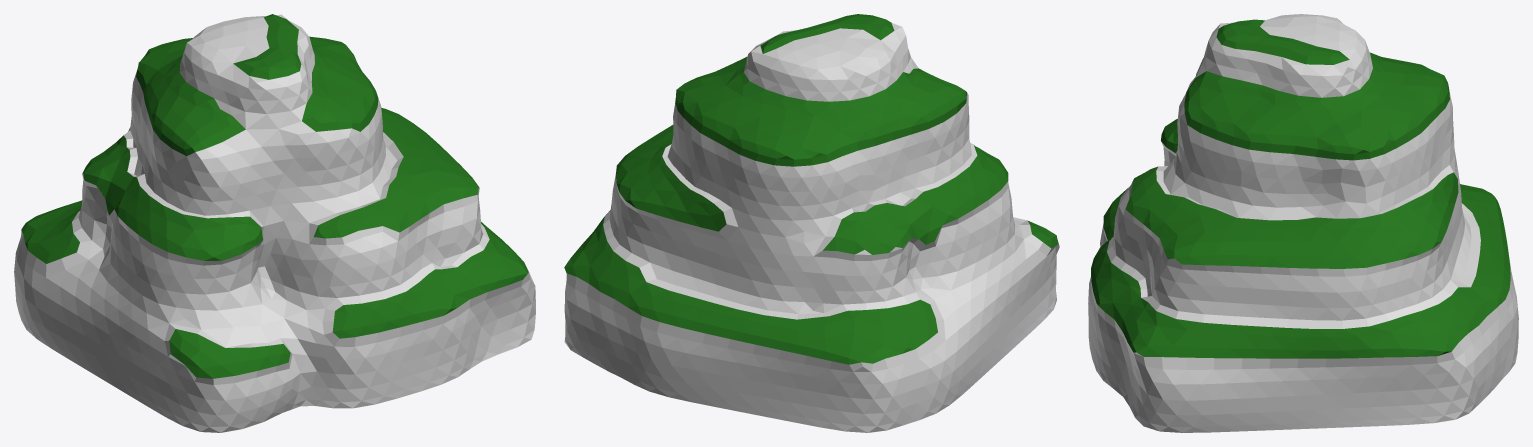
Rendered from RockWithGrass.fbx.
The picture shows the model from 3 angles, left to right: view 1: azimuth 30°, elevation 25°; view 2: azimuth 150°, elevation 25°; view 3: azimuth 270°, elevation 25°; orthographic projection.
Parts seen in each view (by area): view 1: Plane; view 2: Plane; view 3: Plane.
Part boxes in pixels (x1,y1,x2,y2): Plane: (14,14,535,432); Plane: (564,14,1059,432); Plane: (1088,14,1518,432).
Bounding box in the file's own units: 603 × 441 × 577.
